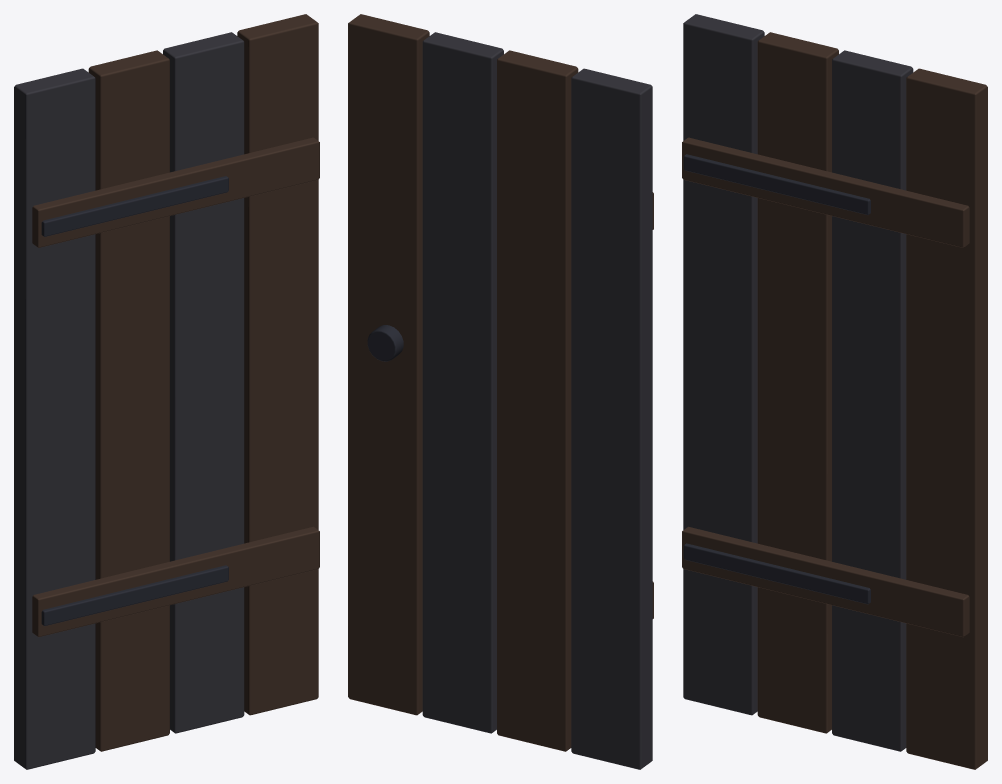
The model's file is cavern-door-leaf.2b9ba4ea.glb.
The picture shows the model from 3 angles, left to right: view 1: azimuth 30°, elevation 25°; view 2: azimuth 150°, elevation 25°; view 3: azimuth 330°, elevation 25°; orthographic projection.
Visible parts, largest first — view 1: body; view 2: body; view 3: body.
Part boxes in pixels (x1,y1,x2,y2): body: (14,14,319,769); body: (348,14,653,769); body: (682,14,987,769).
Bounding box in the file's own units: 0.79 × 1.74 × 0.14.
